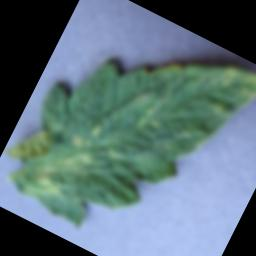Leaf_Mold: (30, 125, 100, 204), (250, 74, 256, 112)
